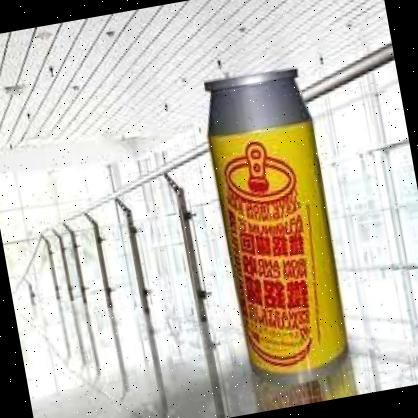can: (198, 64, 356, 388)
